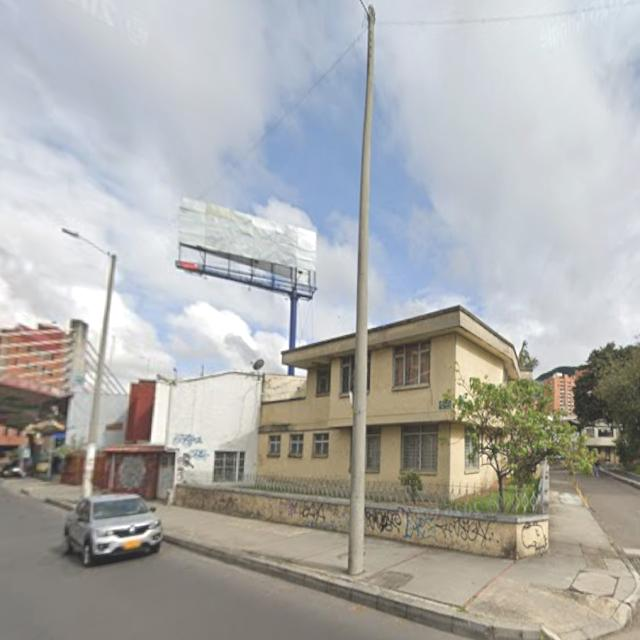fachada: (365, 306, 519, 487), (537, 366, 578, 415), (581, 423, 618, 463)
poste: (347, 6, 373, 575), (82, 254, 115, 497), (288, 293, 297, 350)
